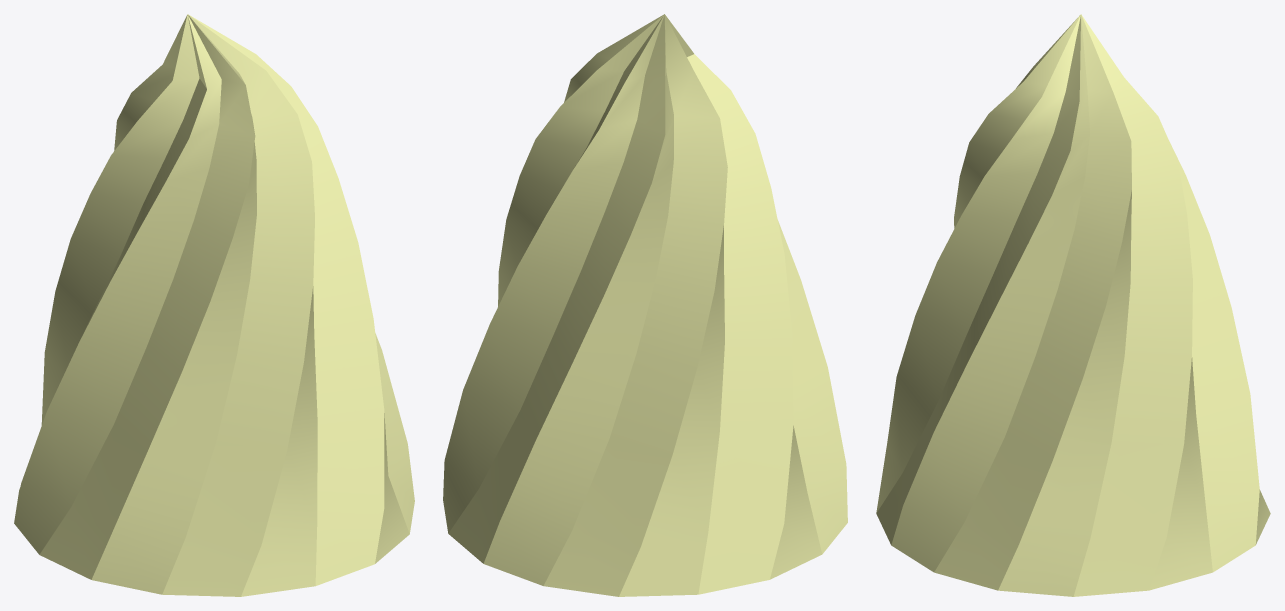
Rendered from Ice Cream Hat C.fbx.
The picture shows the model from 3 angles, left to right: view 1: azimuth 30°, elevation 25°; view 2: azimuth 150°, elevation 25°; view 3: azimuth 270°, elevation 25°; orthographic projection. The views are drawn at different scales.
Visible parts, largest first — view 1: Ice Cream Hat C; view 2: Ice Cream Hat C; view 3: Ice Cream Hat C.
Part boxes in pixels (x1=…): Ice Cream Hat C: x1=14, y1=14, x2=414, y2=596; Ice Cream Hat C: x1=443, y1=14, x2=847, y2=596; Ice Cream Hat C: x1=876, y1=14, x2=1270, y2=596.
Bounding box in the file's own units: 0.4333 × 0.5923 × 0.4333.
